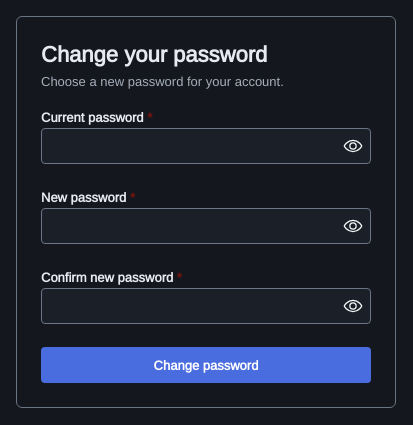
Test: ChangePasswordView › shows the password policy's reason beside the new password
Type "current-password" into the password field labelled "Current password *".
click(206, 146); type("current-password")  # box [42, 129, 370, 163]
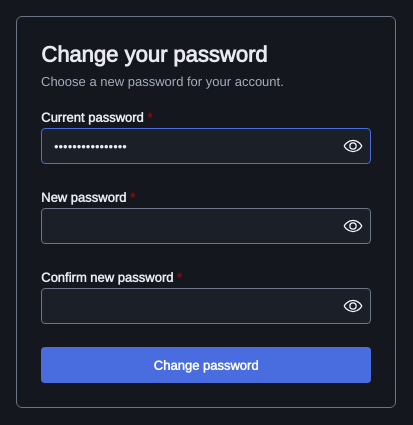
Type "short" into the password field labelled "New password *".
click(206, 226); type("short")  # box [42, 209, 370, 243]
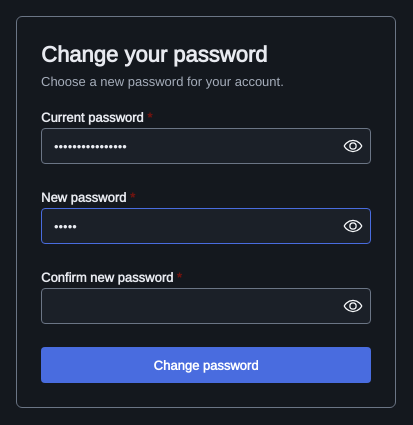
Type "short" into the password field labelled "Confirm new password *".
click(206, 306); type("short")  # box [42, 289, 370, 323]
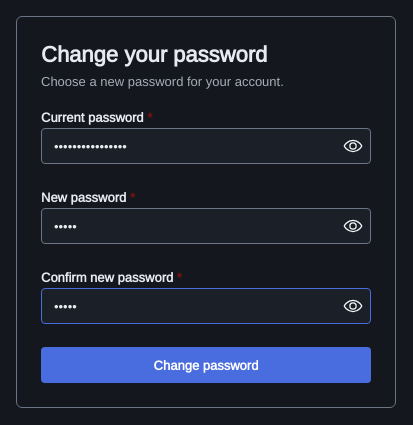
Click the button "Change password".
click(206, 365)  # box [41, 347, 371, 383]
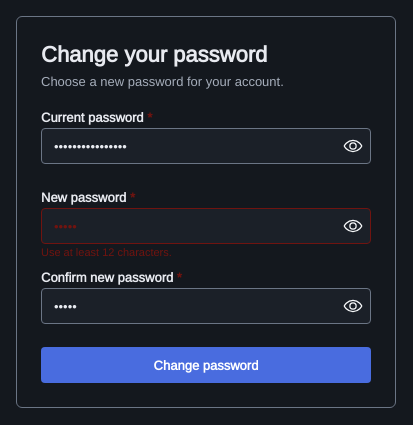
Result: the text "Use at least 12 characters." is shown at [41, 245, 172, 259]
